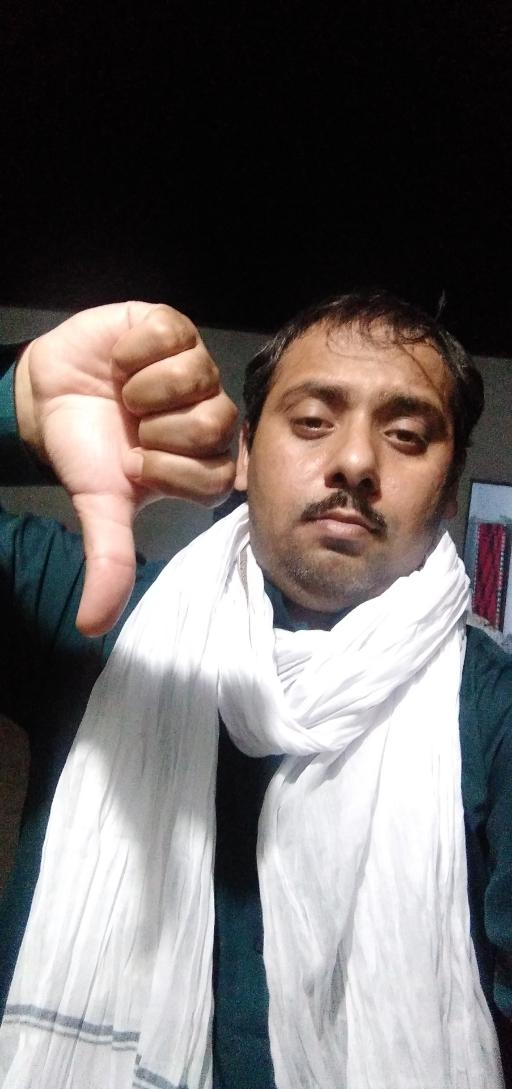dislike: (19, 295, 244, 640)
